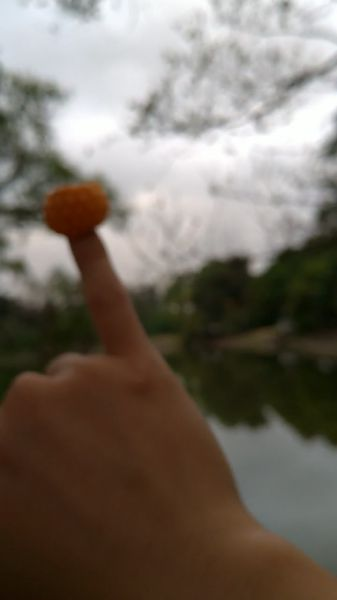eggs: (44, 181, 110, 236)
